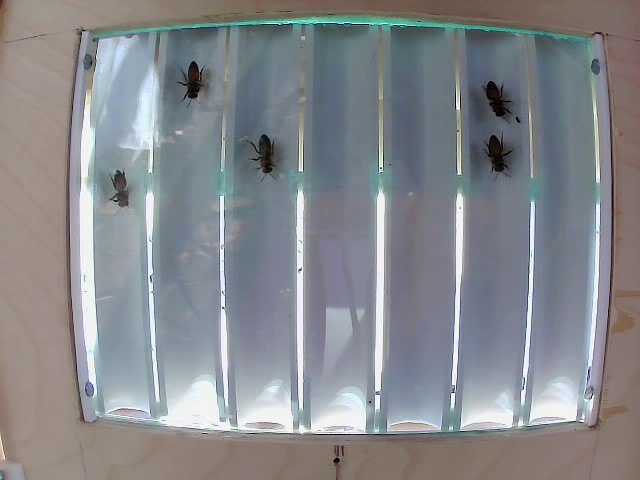bee: (248, 131, 288, 185), (480, 80, 519, 130), (96, 175, 152, 208), (178, 61, 207, 113), (481, 134, 514, 179)
